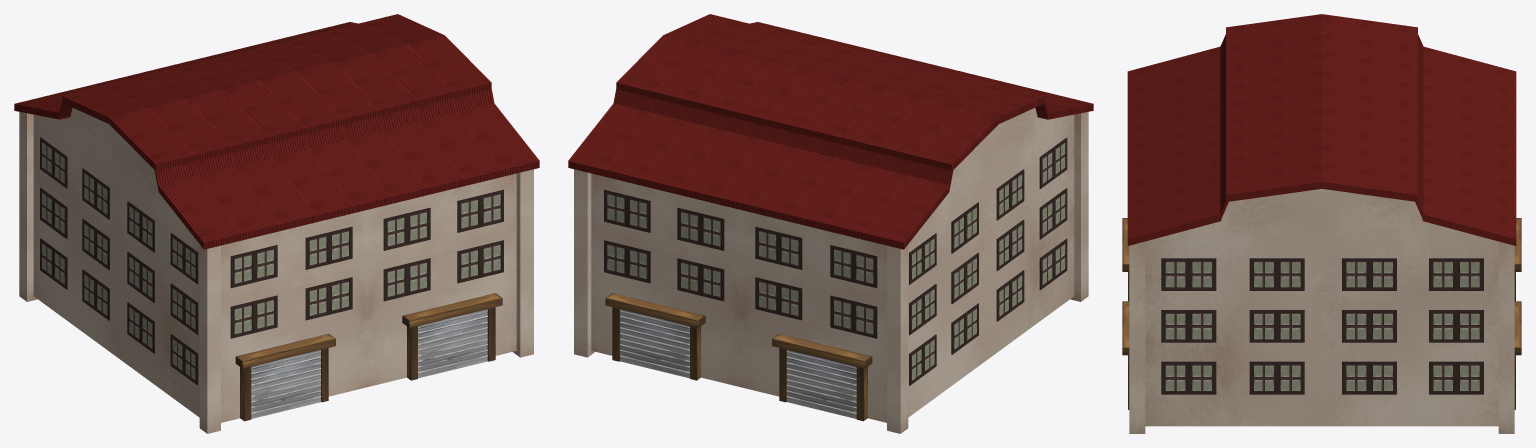
The model's file is Nha 6.fbx.
3 views of the same model, side by side, from view 1: azimuth 30°, elevation 25°; view 2: azimuth 150°, elevation 25°; view 3: azimuth 270°, elevation 25° (orthographic). The views are drawn at different scales.
Visible parts, largest first — view 1: Plane.120; view 2: Plane.120; view 3: Plane.120.
Boxes of the visible parts, x1,y1,x2,y2 form: Plane.120: [14, 14, 539, 433]; Plane.120: [568, 14, 1093, 433]; Plane.120: [1122, 14, 1521, 433].
Size of the model in its own units: 1089 by 771 by 1096.
